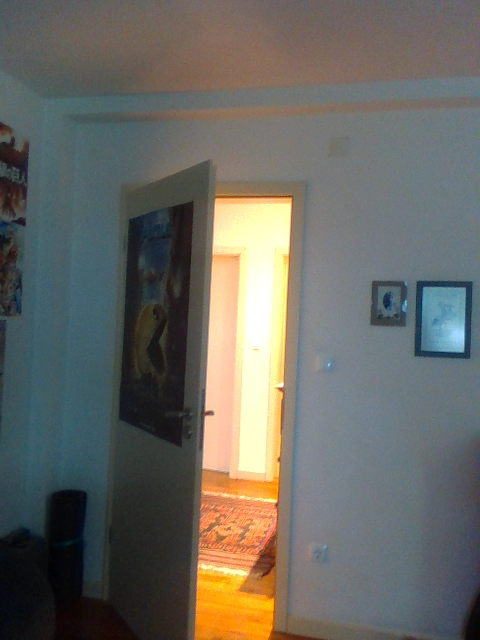semi: (99, 161, 311, 638)
